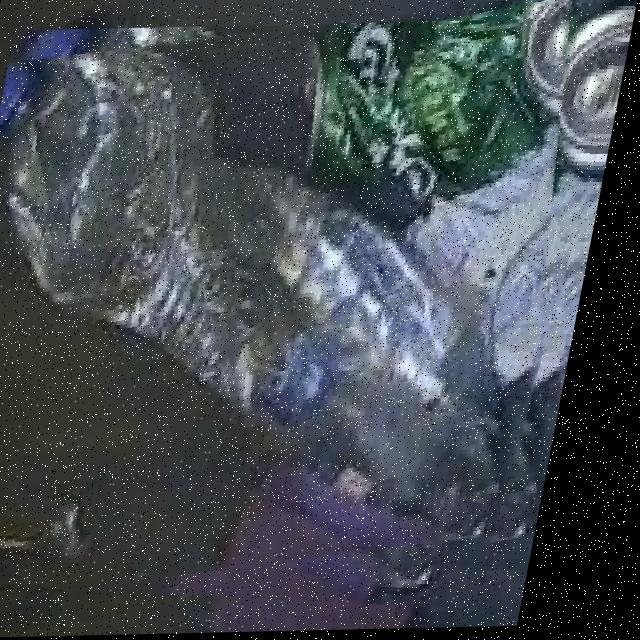plasticbottle: (0, 20, 635, 622)
